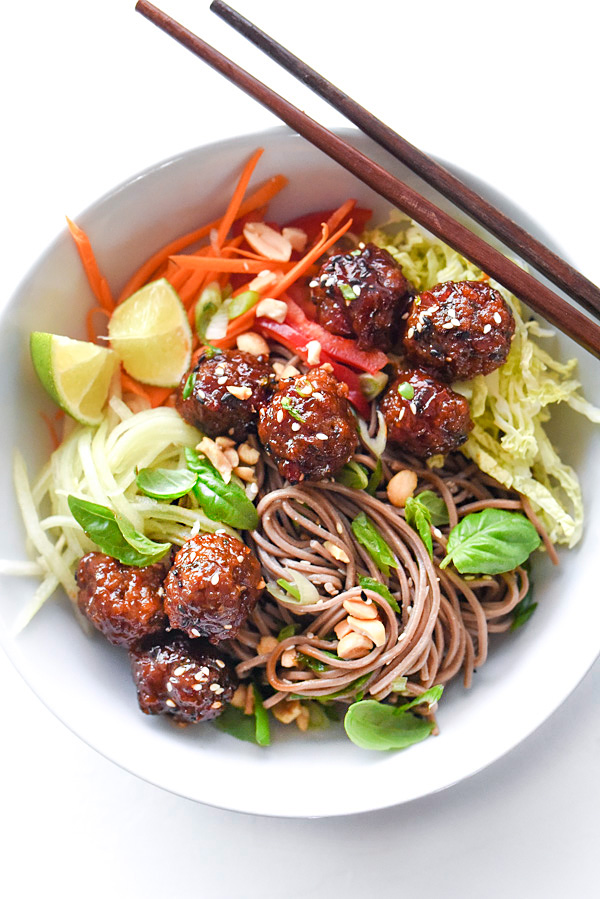Soba: (224, 446, 566, 778)
